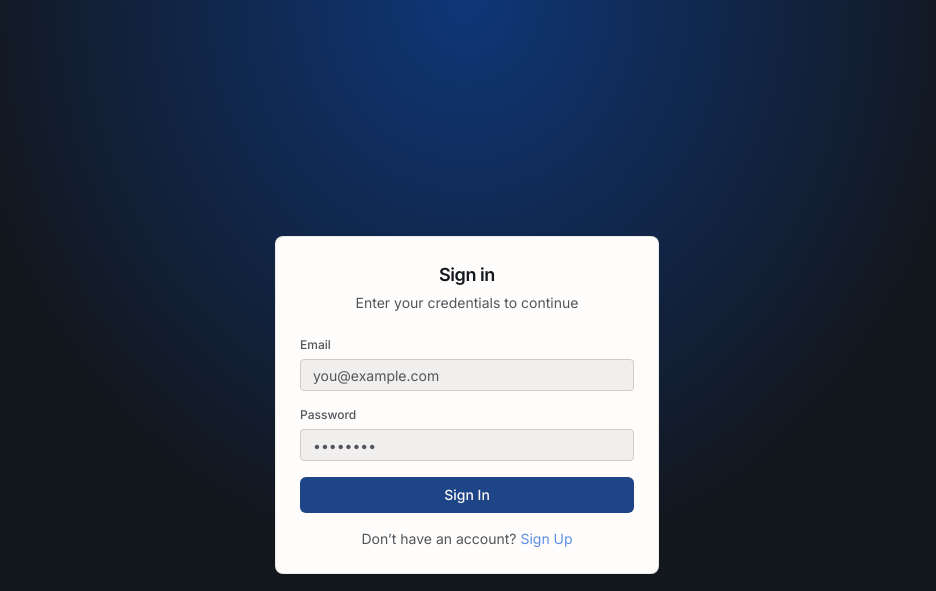
Test: LoginPage › toggles between sign in and sign up modes
This screenshot has width=936, height=591.
Expected: the heading "Sign in" is shown, [439, 264, 495, 285]
What coordinates should you click on to do the following:
click the button "Sign Up"
I would click on:
 (546, 539)
Its box is [520, 529, 573, 549].
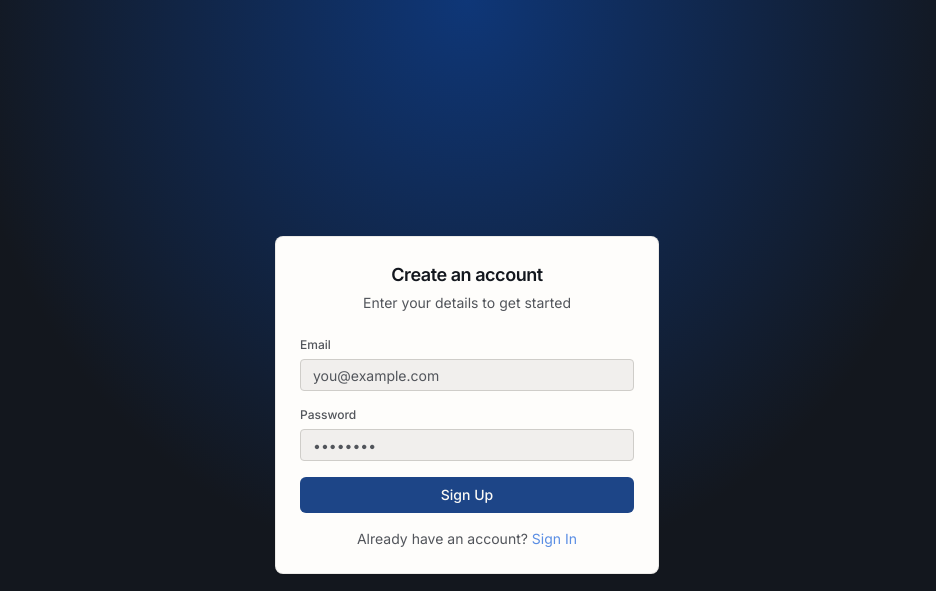
Now the heading "Create an account" is shown, box [391, 264, 543, 285]
Now the button "Sign In" is shown, box [532, 529, 577, 549]
